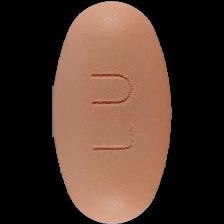68084-773: (0, 0, 224, 224)
